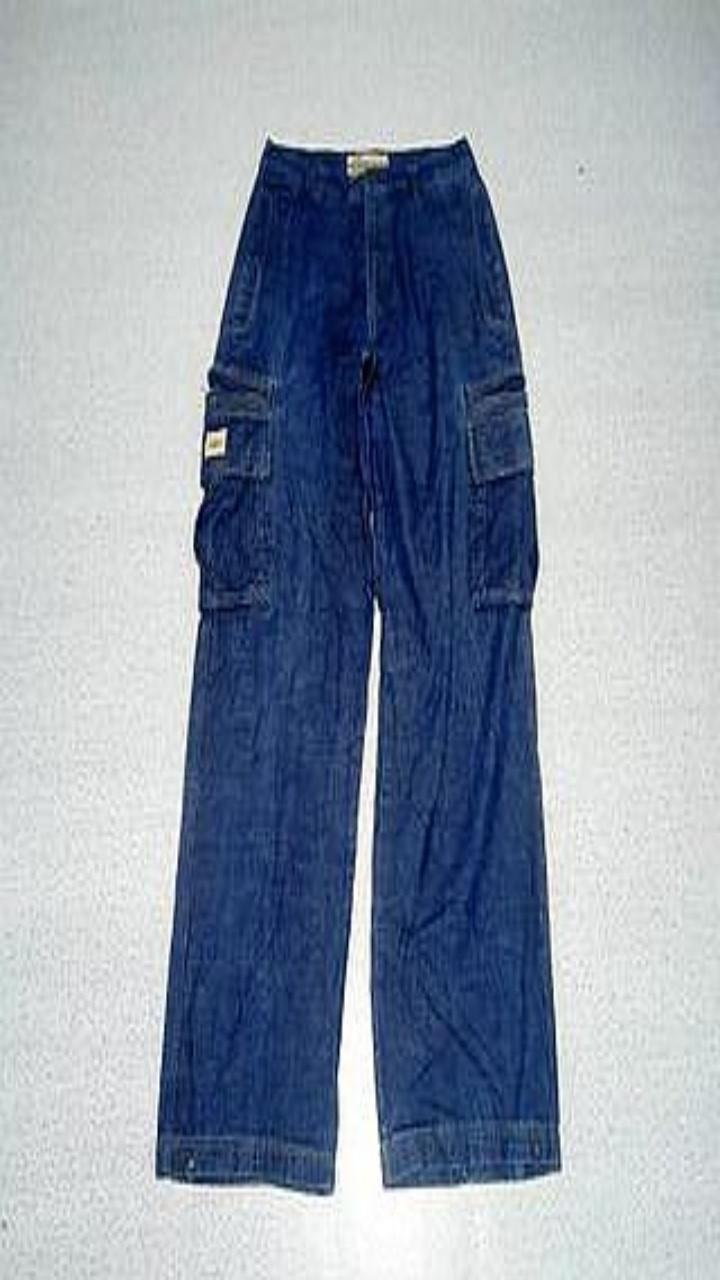Jeans: (156, 136, 560, 1192)
